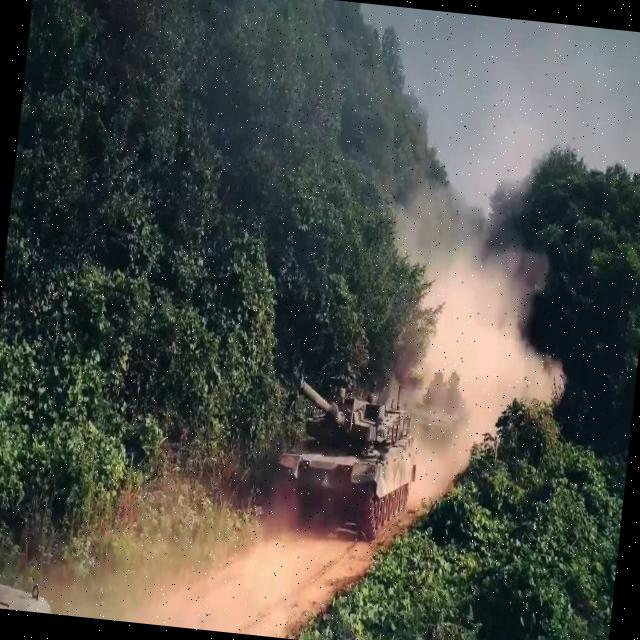korea tank: (270, 366, 424, 546)
